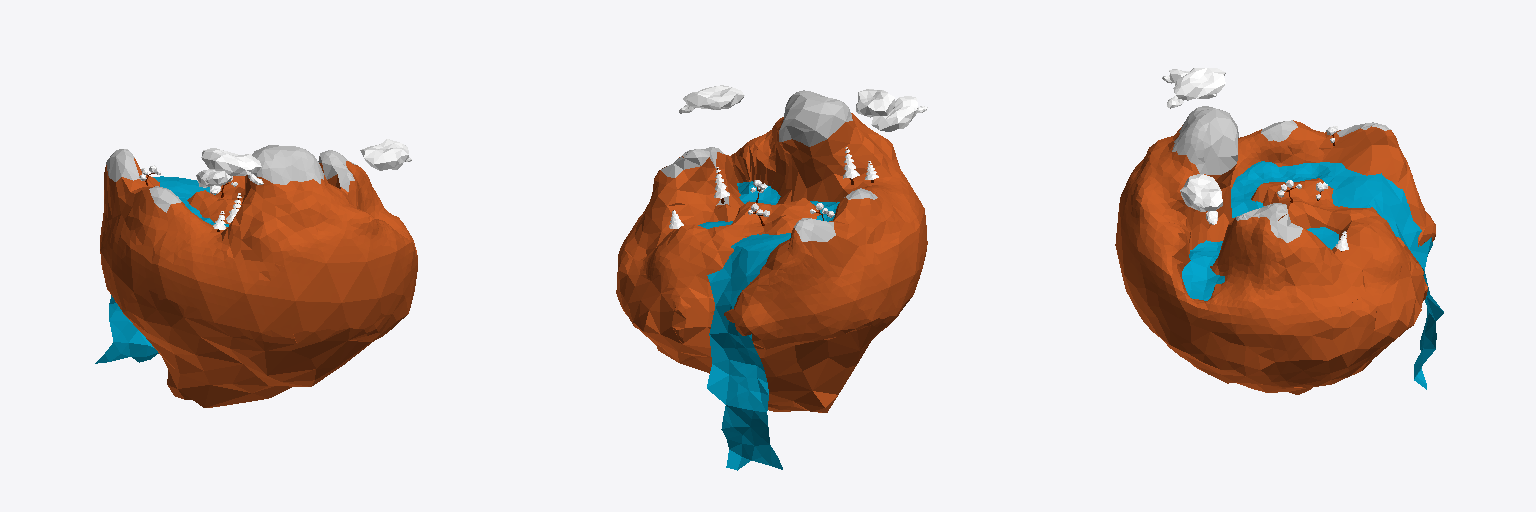
Rendered from island_basic_snow.obj.
The picture shows the model from 3 angles: view 1: azimuth 30°, elevation 25°; view 2: azimuth 150°, elevation 25°; view 3: azimuth 270°, elevation 25°; orthographic projection.
Visible parts, largest first — view 1: Icosphere_Icosphere.001, Plane, Icosphere.004_Icosphere.005, Icosphere.005_Icosphere.006, Icosphere.002, Icosphere.001_Icosphere, Icosphere.003; view 2: Icosphere_Icosphere.001, Plane, Icosphere.004_Icosphere.005, Icosphere.005_Icosphere.006, Icosphere.001_Icosphere, Icosphere.003, Icosphere.002; view 3: Icosphere_Icosphere.001, Plane, Icosphere.004_Icosphere.005, Icosphere.005_Icosphere.006, Icosphere.002, Icosphere.001_Icosphere.
Part boxes in pixels (x1,y1,x2,y2): Icosphere_Icosphere.001: (100,158,417,407); Plane: (95,176,228,363); Icosphere.004_Icosphere.005: (252,145,323,184); Icosphere.005_Icosphere.006: (106,149,355,212); Icosphere.002: (201,148,263,184); Icosphere.001_Icosphere: (360,139,411,170); Icosphere.003: (196,169,231,194); Icosphere_Icosphere.001: (616,113,927,412); Plane: (698,181,839,470); Icosphere.004_Icosphere.005: (779,90,852,146); Icosphere.005_Icosphere.006: (661,147,877,241); Icosphere.001_Icosphere: (679,85,744,113); Icosphere.003: (871,96,927,131); Icosphere.002: (856,89,894,117); Icosphere_Icosphere.001: (1115,120,1435,394); Plane: (1182,161,1443,389); Icosphere.004_Icosphere.005: (1172,106,1238,174); Icosphere.005_Icosphere.006: (1236,120,1390,242); Icosphere.002: (1167,68,1225,108); Icosphere.001_Icosphere: (1180,174,1222,224).
Bounding box in the file's own units: 2189 × 2331 × 2316.